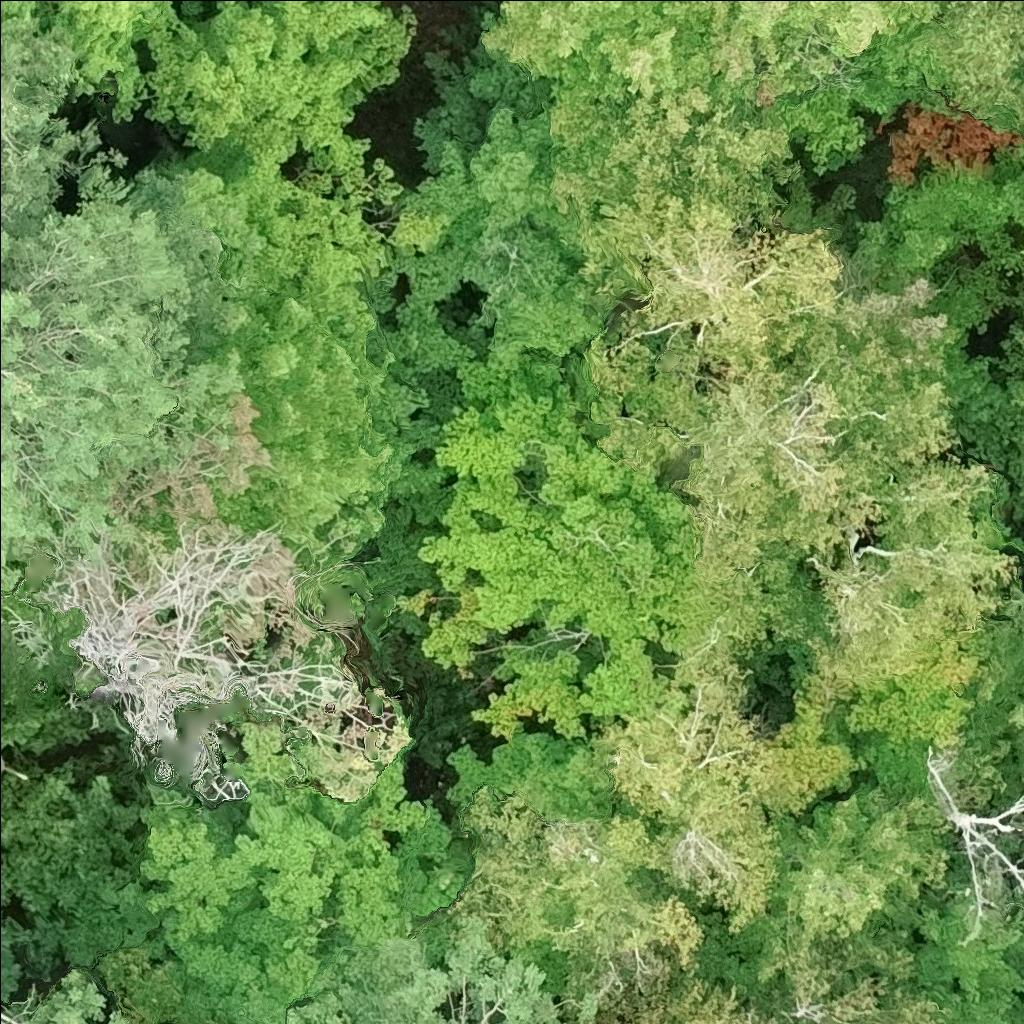crown: (579, 295, 882, 684), (411, 355, 709, 740), (155, 161, 437, 564), (0, 161, 224, 574), (114, 759, 464, 1023), (51, 520, 354, 801), (393, 43, 614, 369), (573, 183, 848, 374), (606, 675, 801, 934), (139, 0, 422, 172), (179, 145, 455, 316), (478, 792, 702, 982), (796, 328, 993, 543), (479, 0, 791, 105), (277, 923, 602, 1023), (810, 535, 1014, 690), (0, 0, 199, 123), (0, 12, 81, 229), (919, 760, 1023, 914), (822, 272, 964, 377), (923, 0, 1023, 129), (625, 973, 788, 1023), (782, 0, 917, 55), (24, 967, 130, 1023), (0, 571, 23, 600), (177, 0, 215, 14), (1023, 241, 1023, 251)
